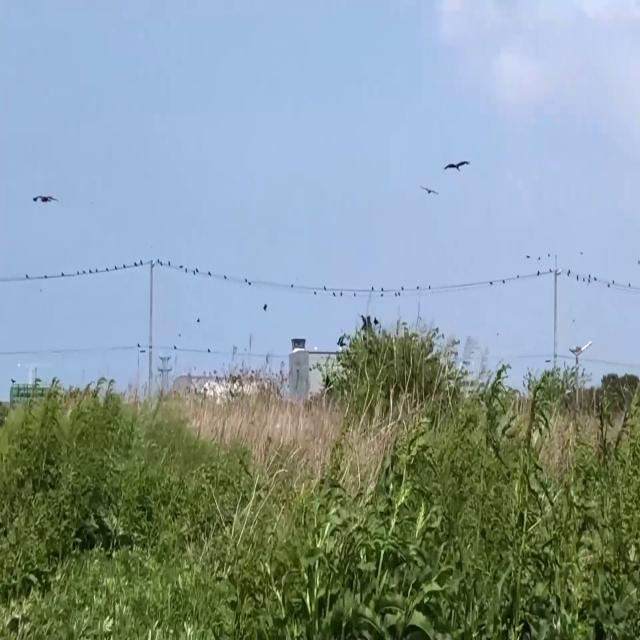bird: (443, 145, 470, 187), (32, 182, 58, 218), (420, 173, 438, 204)
